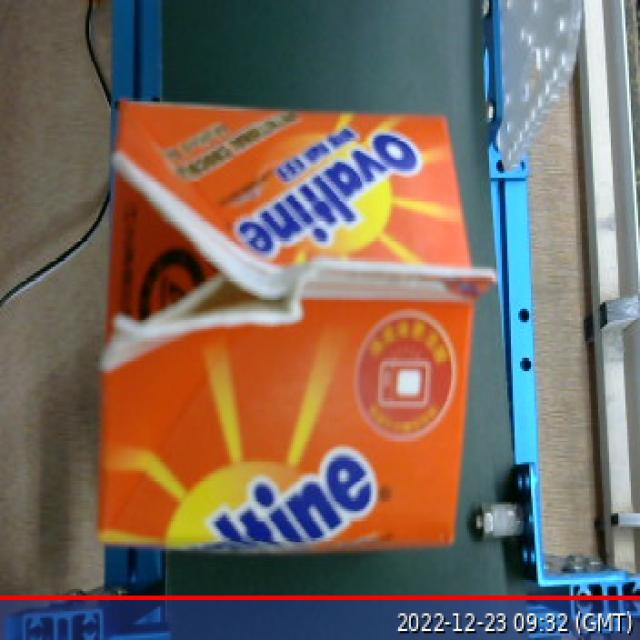non_white_jug: (85, 87, 511, 558)
